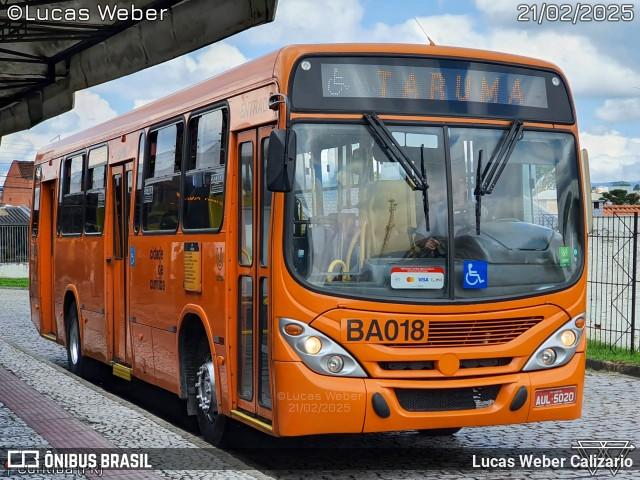TARUMA: (369, 64, 529, 109)
